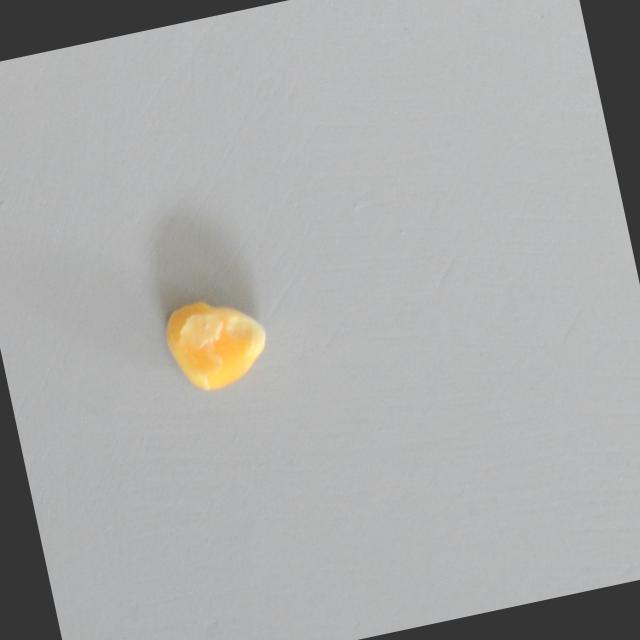pelicula: (153, 281, 278, 405)
